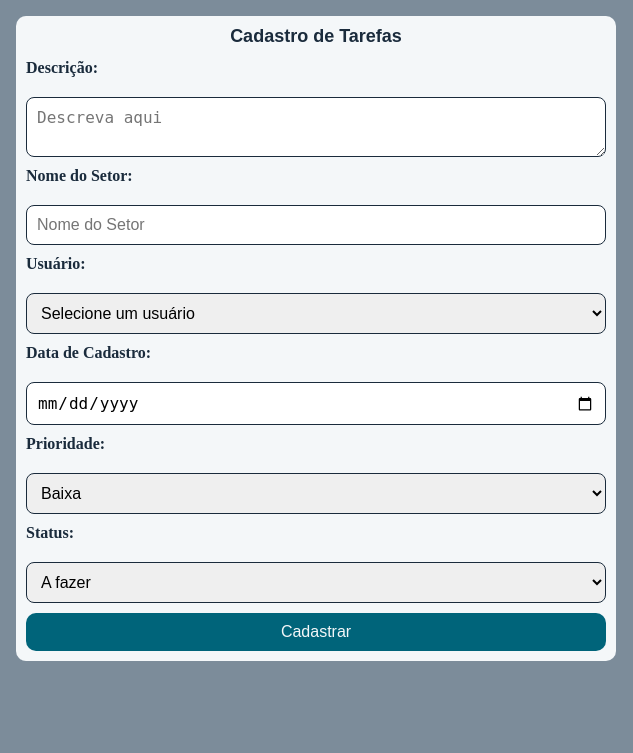
Test: Cadastro de Tarefas › deve mostrar erro se a descrição não for preenchida
Step 1. Type "TI" into the field labelled "Nome do Setor:" → (316, 225), box [26,205,606,245]
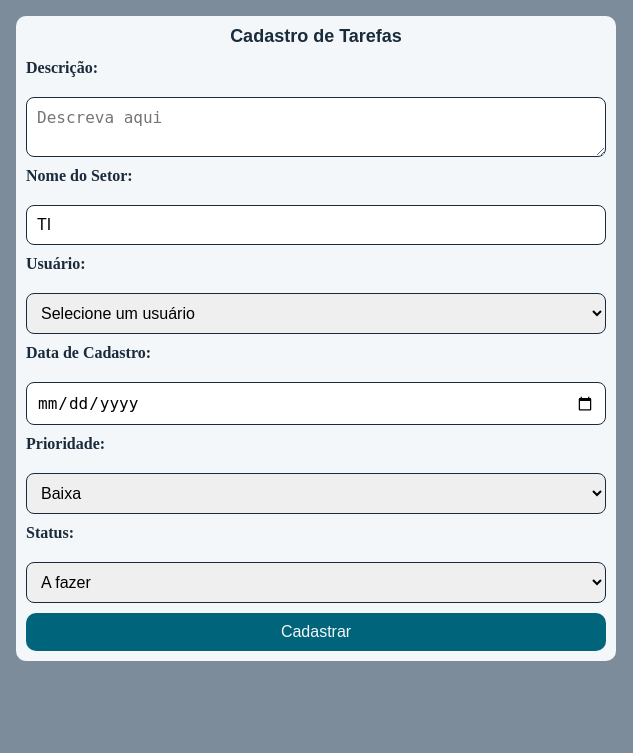
Step 2. Select "Maria Grandi" in the dropdown labelled "Usuário:" → (316, 314), box [26,293,606,334]
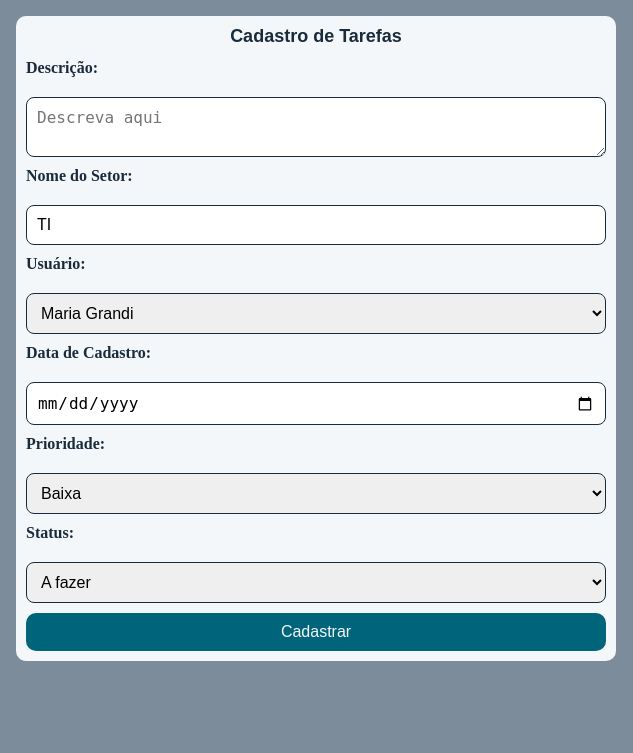
Step 3. Type "2025-01-01" into the date field labelled "Data de Cadastro:" → (316, 404), box [26,382,606,425]
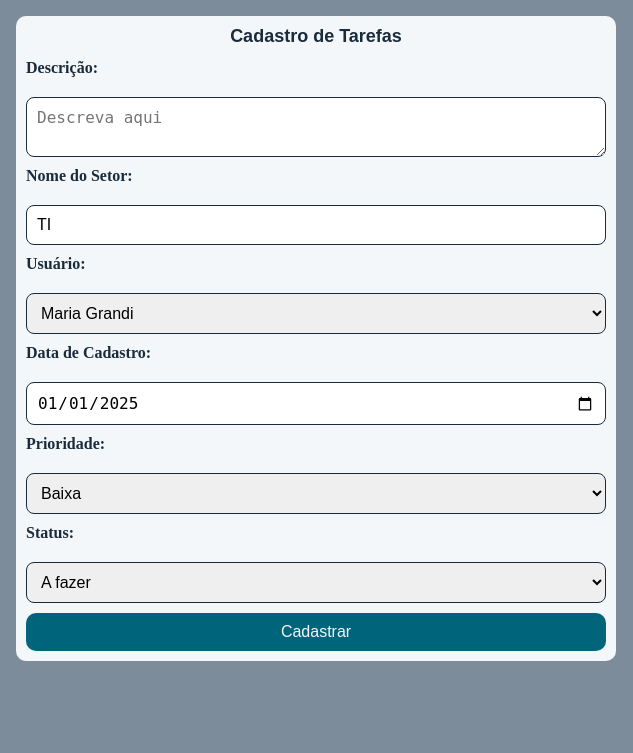
Step 4. Click the button "Cadastrar" → (316, 632), box [26,613,606,651]
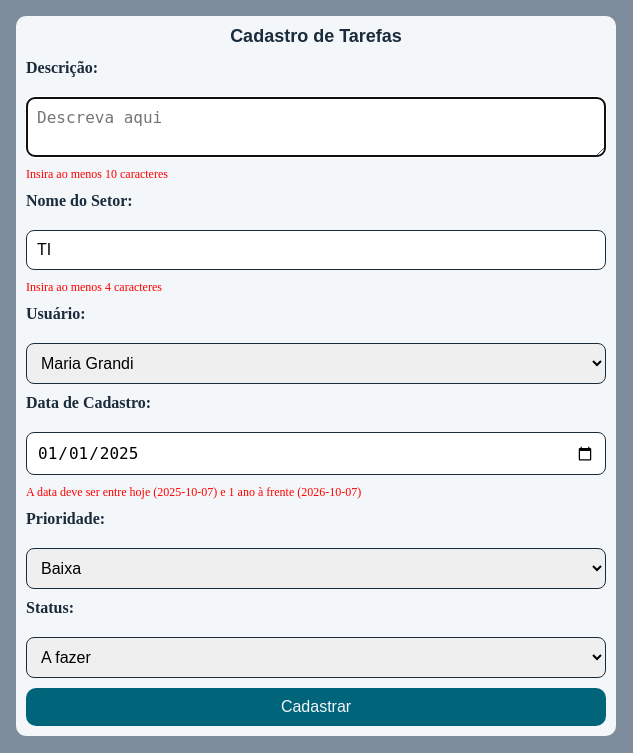
Result: the text "Insira ao menos 10 caracteres" is shown at [26,167,168,181]
